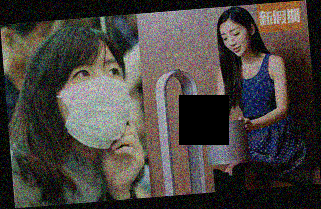with_mask: (58, 58, 133, 151)
without_mask: (219, 25, 253, 59)
